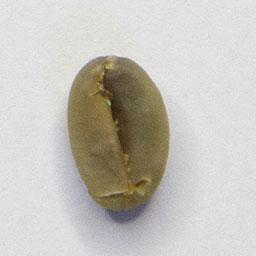premium: (64, 51, 173, 214)
